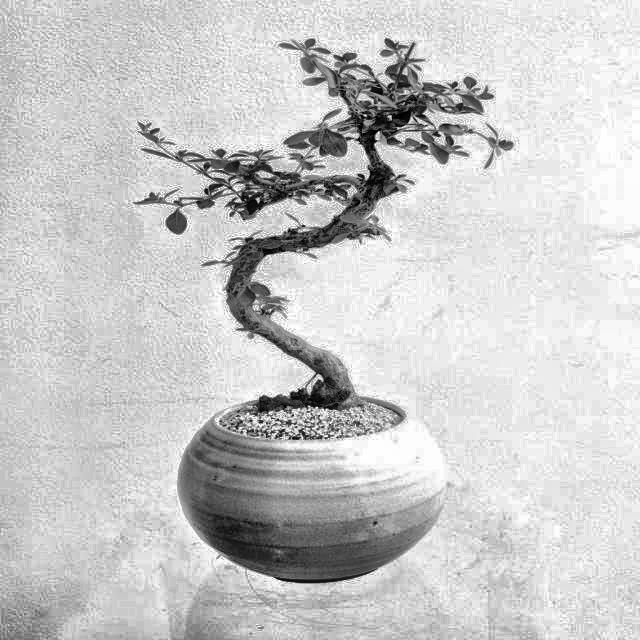plants: (131, 31, 440, 554)
